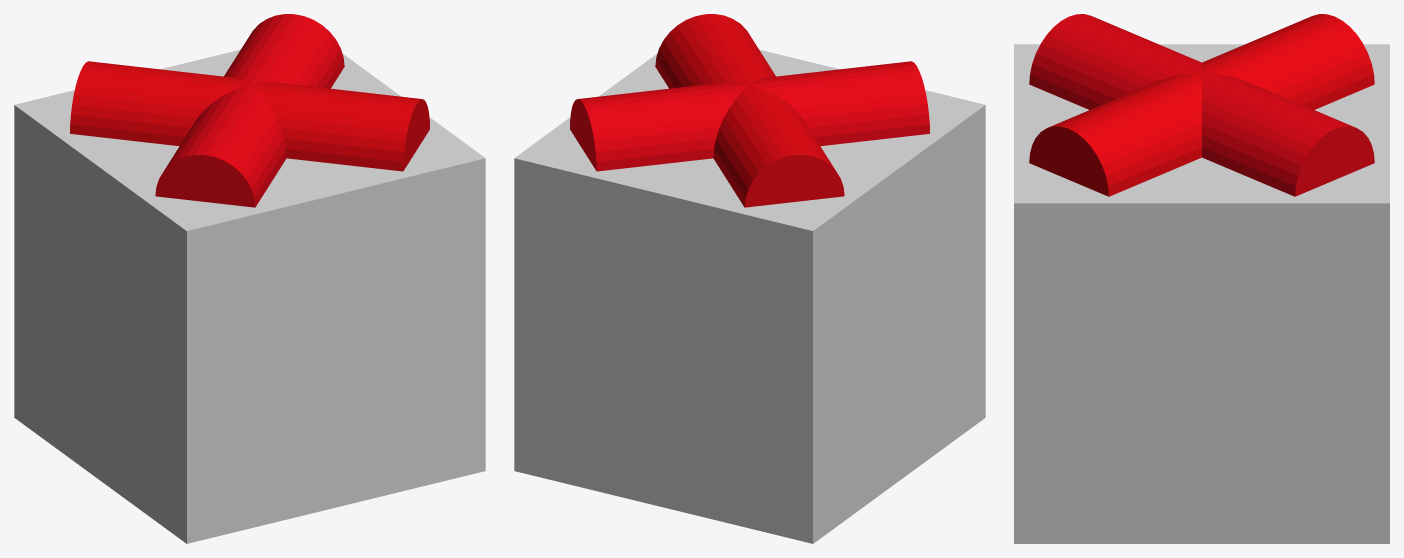
3 views of the same model, side by side, from view 1: azimuth 30°, elevation 25°; view 2: azimuth 150°, elevation 25°; view 3: azimuth 270°, elevation 25° (orthographic). The views are drawn at different scales.
Visible parts, largest first — view 1: Cube, Cylinder, Cylinder.001; view 2: Cube, Cylinder.001, Cylinder; view 3: Cube, Cylinder, Cylinder.001.
Boxes of the visible parts, left/top/right/bottom form: Cube: left=14, top=49, right=485, bottom=543; Cylinder: left=70, top=61, right=429, bottom=171; Cylinder.001: left=155, top=14, right=344, bottom=207; Cube: left=514, top=49, right=985, bottom=543; Cylinder.001: left=570, top=61, right=929, bottom=171; Cylinder: left=655, top=14, right=844, bottom=207; Cube: left=1014, top=44, right=1389, bottom=543; Cylinder: left=1029, top=14, right=1374, bottom=196; Cylinder.001: left=1029, top=14, right=1374, bottom=196.
Size of the model in its own units: 200 by 230 by 200.
